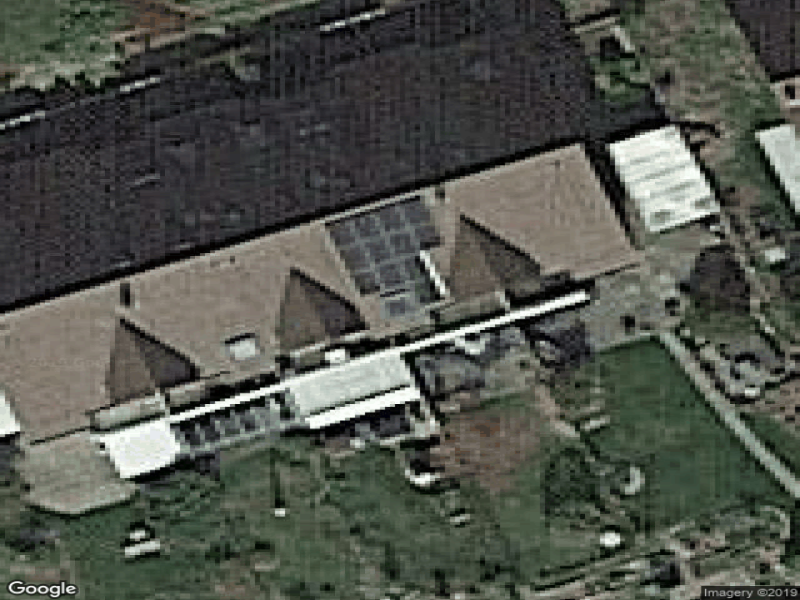pv: (327, 197, 441, 297)
